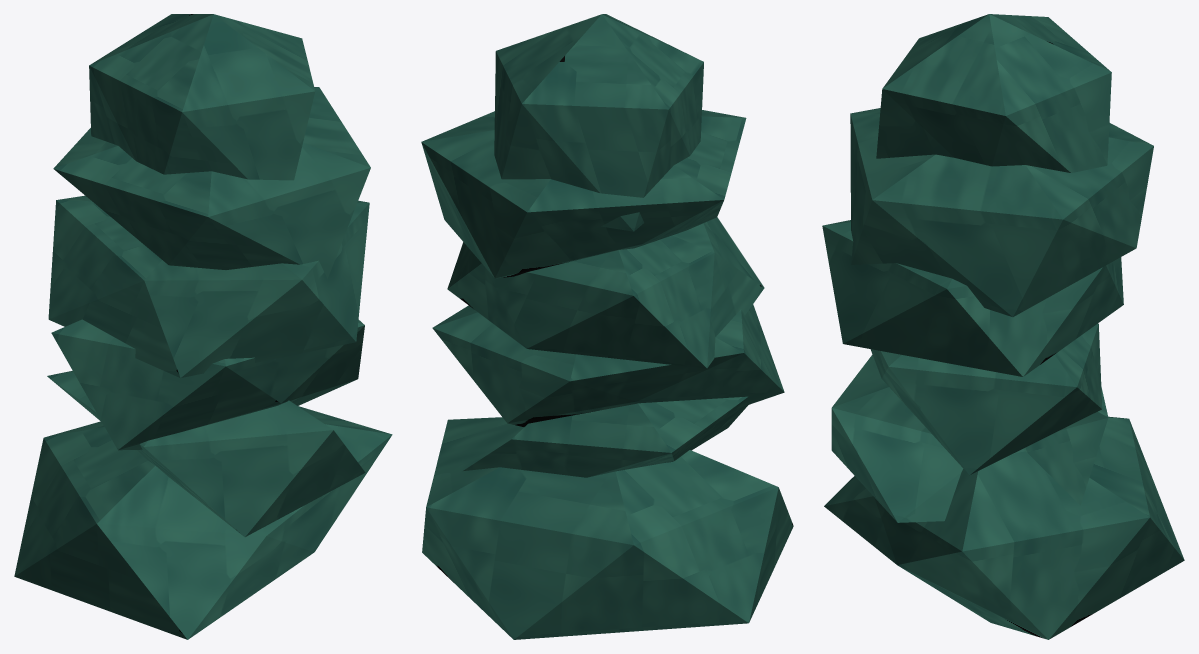
Rendered from stoneTower.glb.
3 renders of one model, left to right at view 1: azimuth 30°, elevation 25°; view 2: azimuth 150°, elevation 25°; view 3: azimuth 270°, elevation 25°, orthographic.
Visible parts, largest first — view 1: stone_corner; view 2: stone_corner; view 3: stone_corner.
Part boxes in pixels (x1,y1,x2,y2): stone_corner: [14, 14, 392, 639]; stone_corner: [421, 14, 793, 639]; stone_corner: [822, 14, 1184, 639].
Bounding box in the file's own units: 4.46 × 7.62 × 4.09.
1 material, 1 textured.
